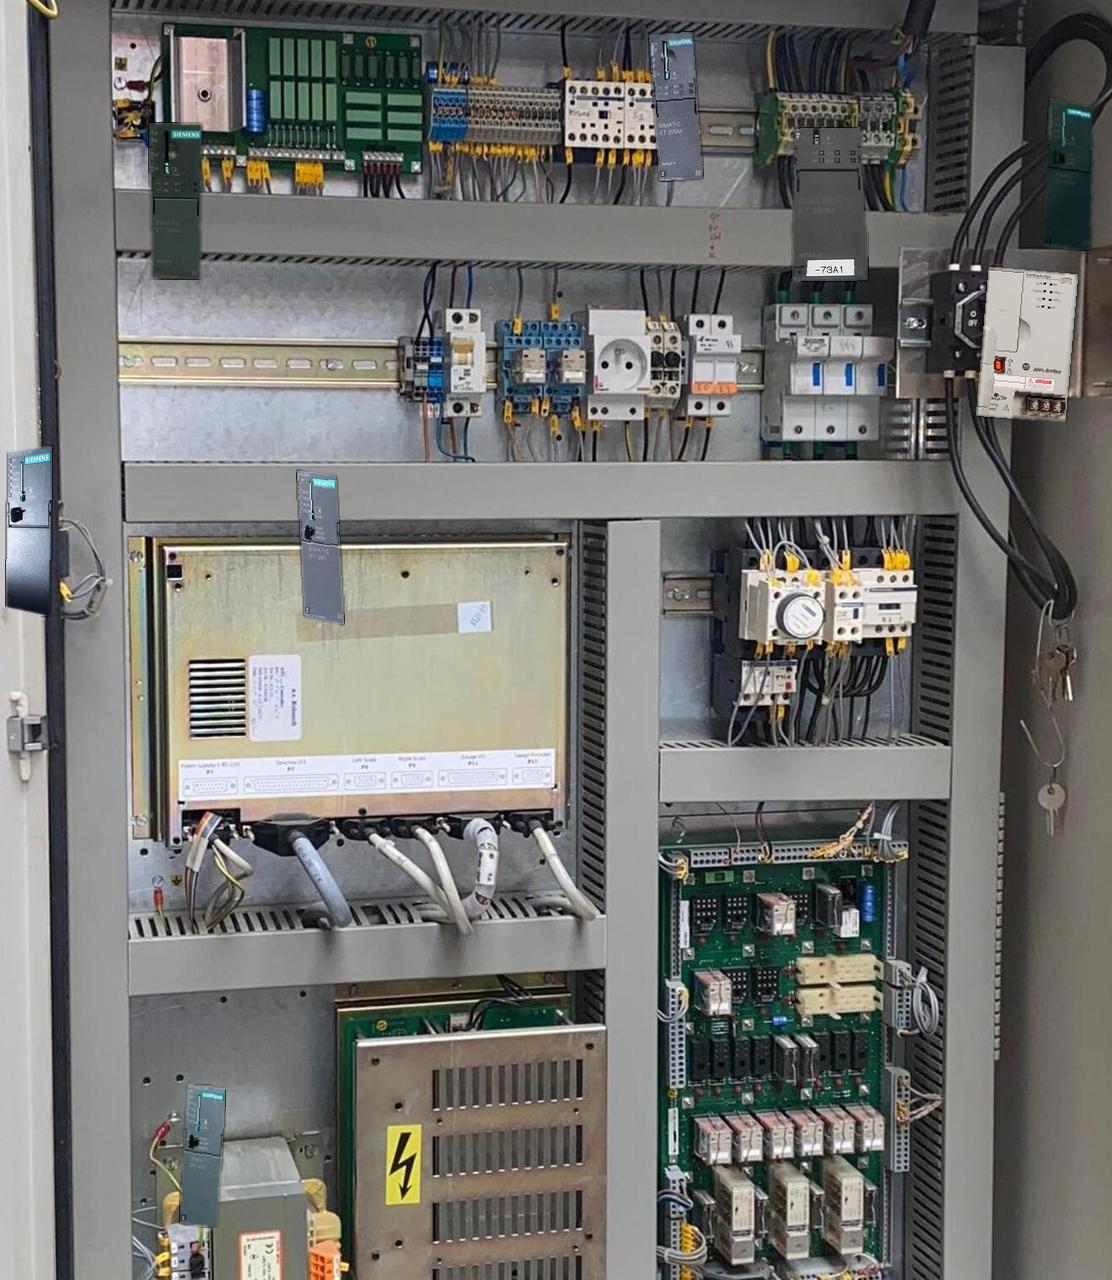AllenBradley: (977, 267, 1077, 420)
Siemens: (1042, 98, 1094, 249), (7, 446, 51, 615), (297, 471, 343, 623), (180, 1084, 225, 1227)
